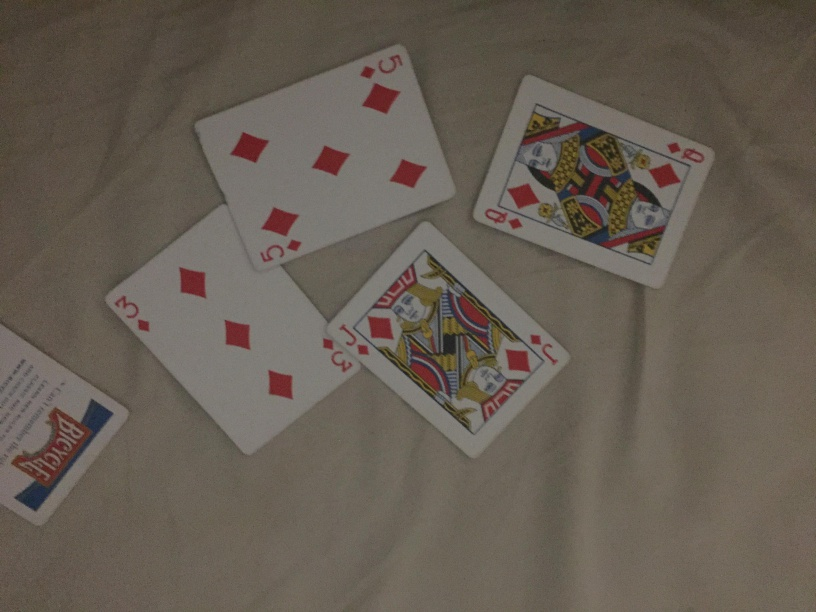3: (92, 191, 363, 455)
5: (188, 45, 459, 268)
jack: (326, 220, 571, 458)
queen: (469, 73, 719, 293)
